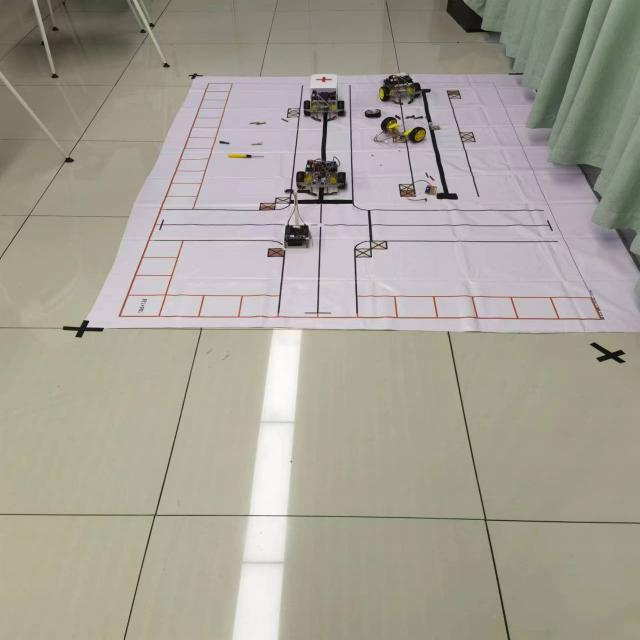RedCross: (314, 74, 334, 84)
